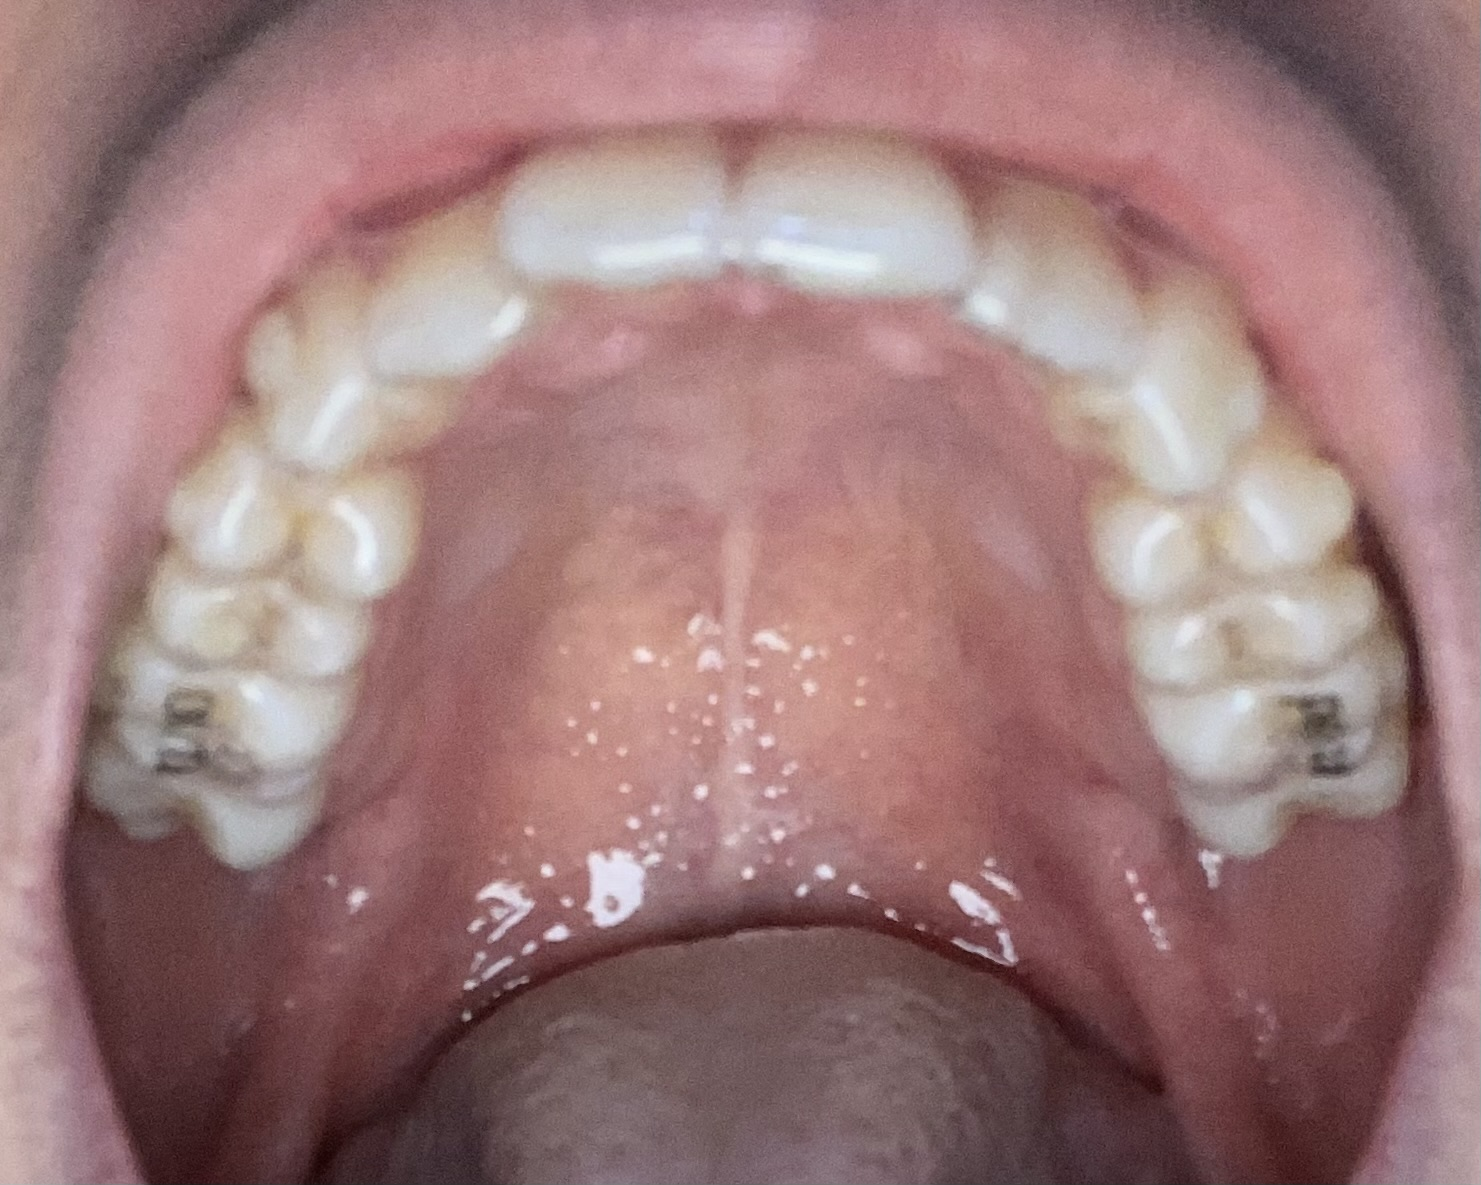teeth: (1081, 433, 1329, 607), (1060, 268, 1254, 486), (737, 135, 974, 304), (261, 258, 449, 450), (187, 441, 411, 591), (519, 129, 718, 289), (958, 185, 1124, 358), (146, 557, 360, 675), (370, 216, 523, 369)
